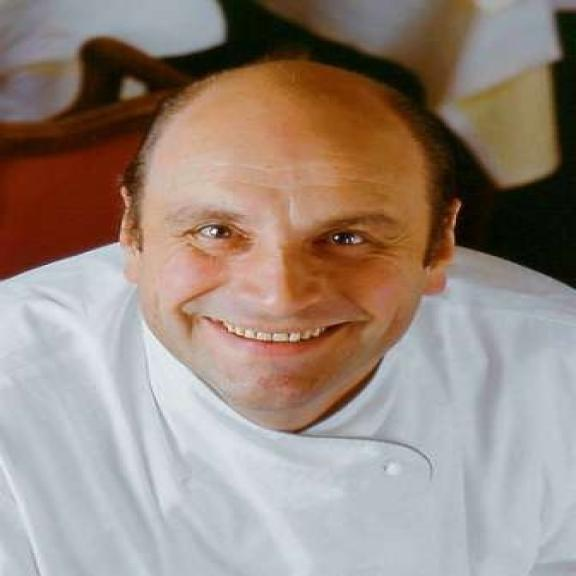face: (118, 96, 466, 419)
